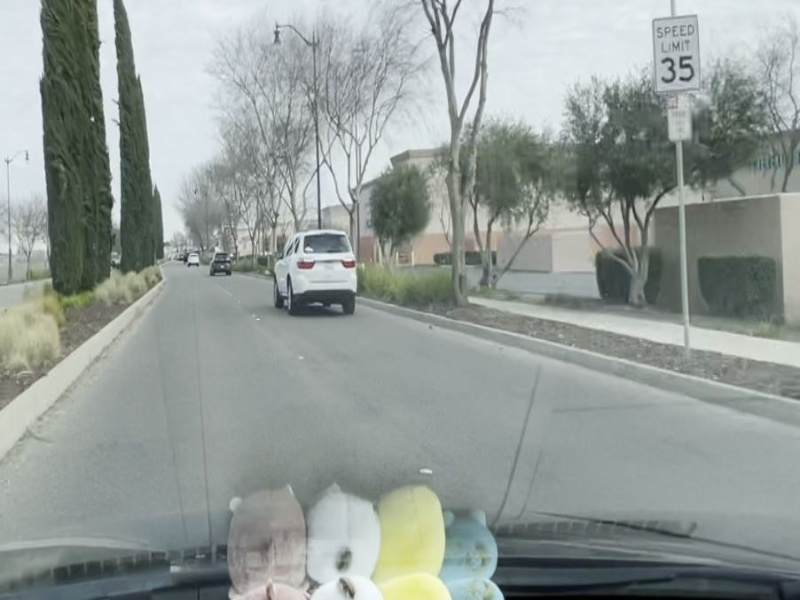speed limit sign: (647, 13, 703, 95)
